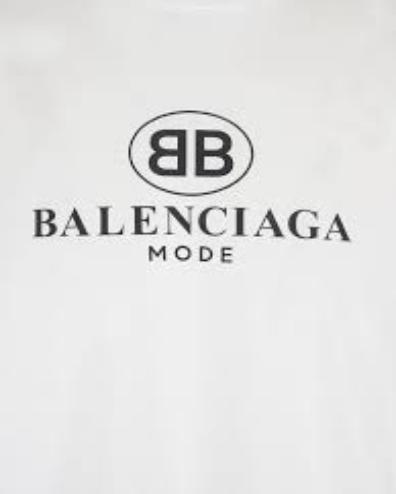BALENCIAGA: (32, 204, 351, 238), (146, 127, 234, 173)
